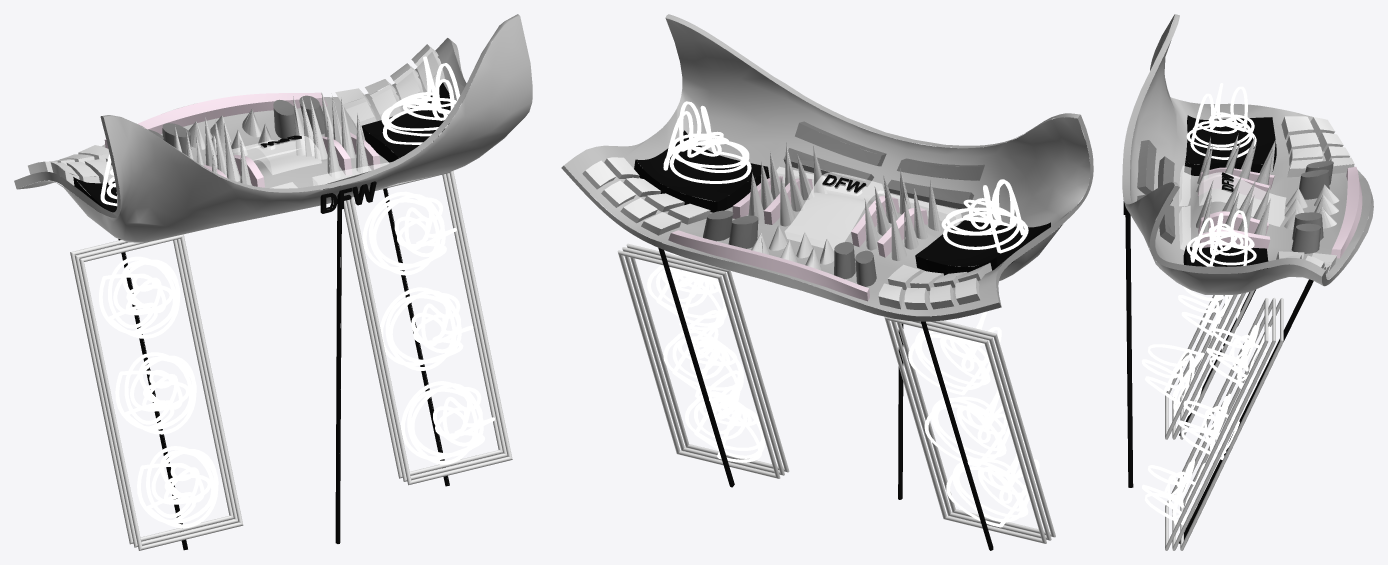
Rendered from DJ2_2_og-GRY-v47.glb.
3 renders of one model, left to right at view 1: azimuth 30°, elevation 25°; view 2: azimuth 150°, elevation 25°; view 3: azimuth 270°, elevation 25°, orthographic. The views are drawn at different scales.
Parts seen in each view (by area): view 1: DJSET_2-V2, donen dalga.001, DJ2_2_og-GRY; view 2: DJSET_2-V2, donen dalga.001, DJ2_2_og-GRY; view 3: DJSET_2-V2, donen dalga.001, DJ2_2_og-GRY.
Part boxes in pixels (<box>): DJSET_2-V2: <box>14,14,532,550</box>; donen dalga.001: <box>99,191,494,528</box>; DJ2_2_og-GRY: <box>100,56,461,206</box>; DJSET_2-V2: <box>561,14,1093,550</box>; donen dalga.001: <box>647,253,1039,527</box>; DJ2_2_og-GRY: <box>663,101,1028,253</box>; DJSET_2-V2: <box>1122,14,1373,550</box>; donen dalga.001: <box>1141,286,1270,525</box>; DJ2_2_og-GRY: <box>1186,83,1256,266</box>.
Size of the model in its own units: 1.2 by 1.19 by 0.701.
